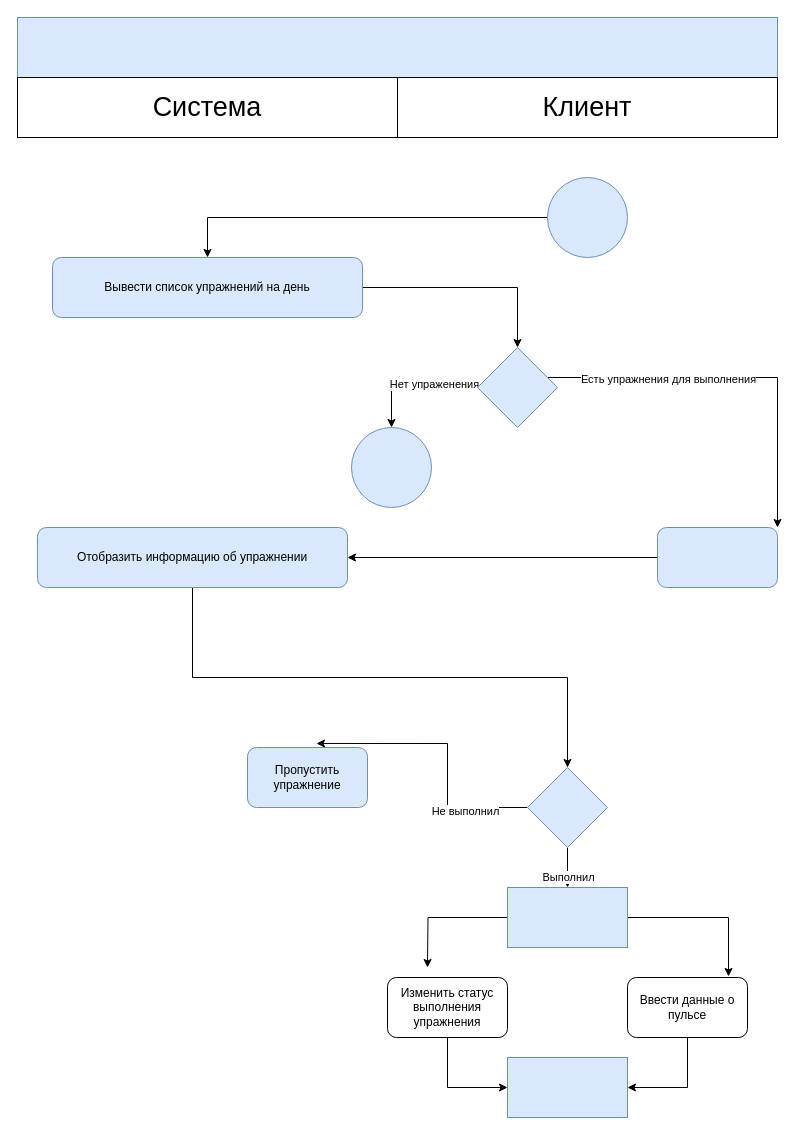
This 803x1135 diagram has some shape labels left out. The box of each missing label's shape, as (x1, y1, x2, y2) in pixels:
Выбрать упражнение: (656, 526, 778, 588)
Диаграмма выполнения упражнений на день: (16, 16, 778, 78)
Есть упражнения для выполнения?: (476, 346, 558, 428)
Клиент выполнил упражнение?: (526, 766, 608, 848)
